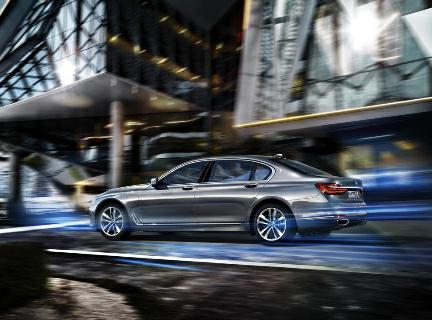宝马-7系新能源: (88, 145, 378, 250)
